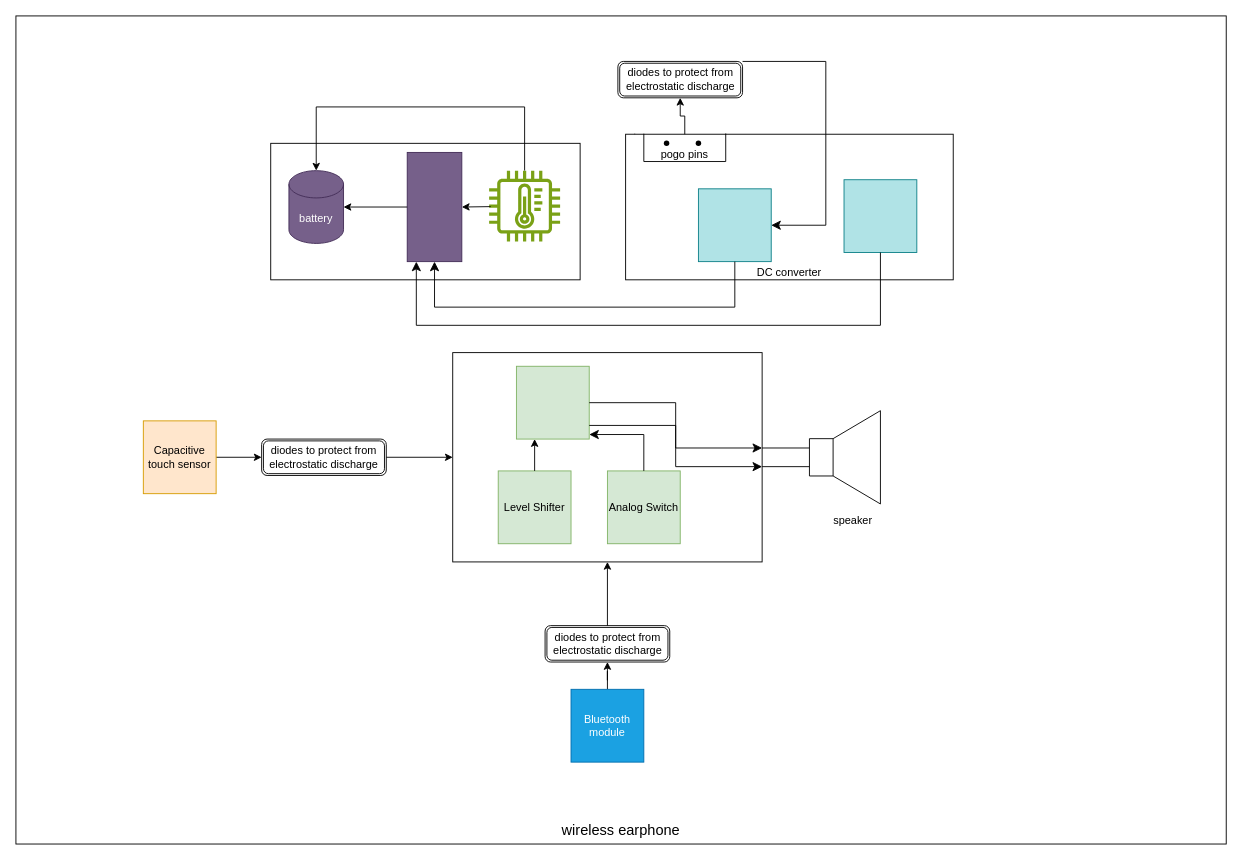
This 1242x860 diagram has some shape labels left out. The shapes that lost their labels are listed below. From the top down, each one's centre as x and y in pixels, then its label:
the point at 434,207: battery ic
the point at 734,225: regulator
the point at 880,216: ADC
the point at 552,402: Audio Processor
